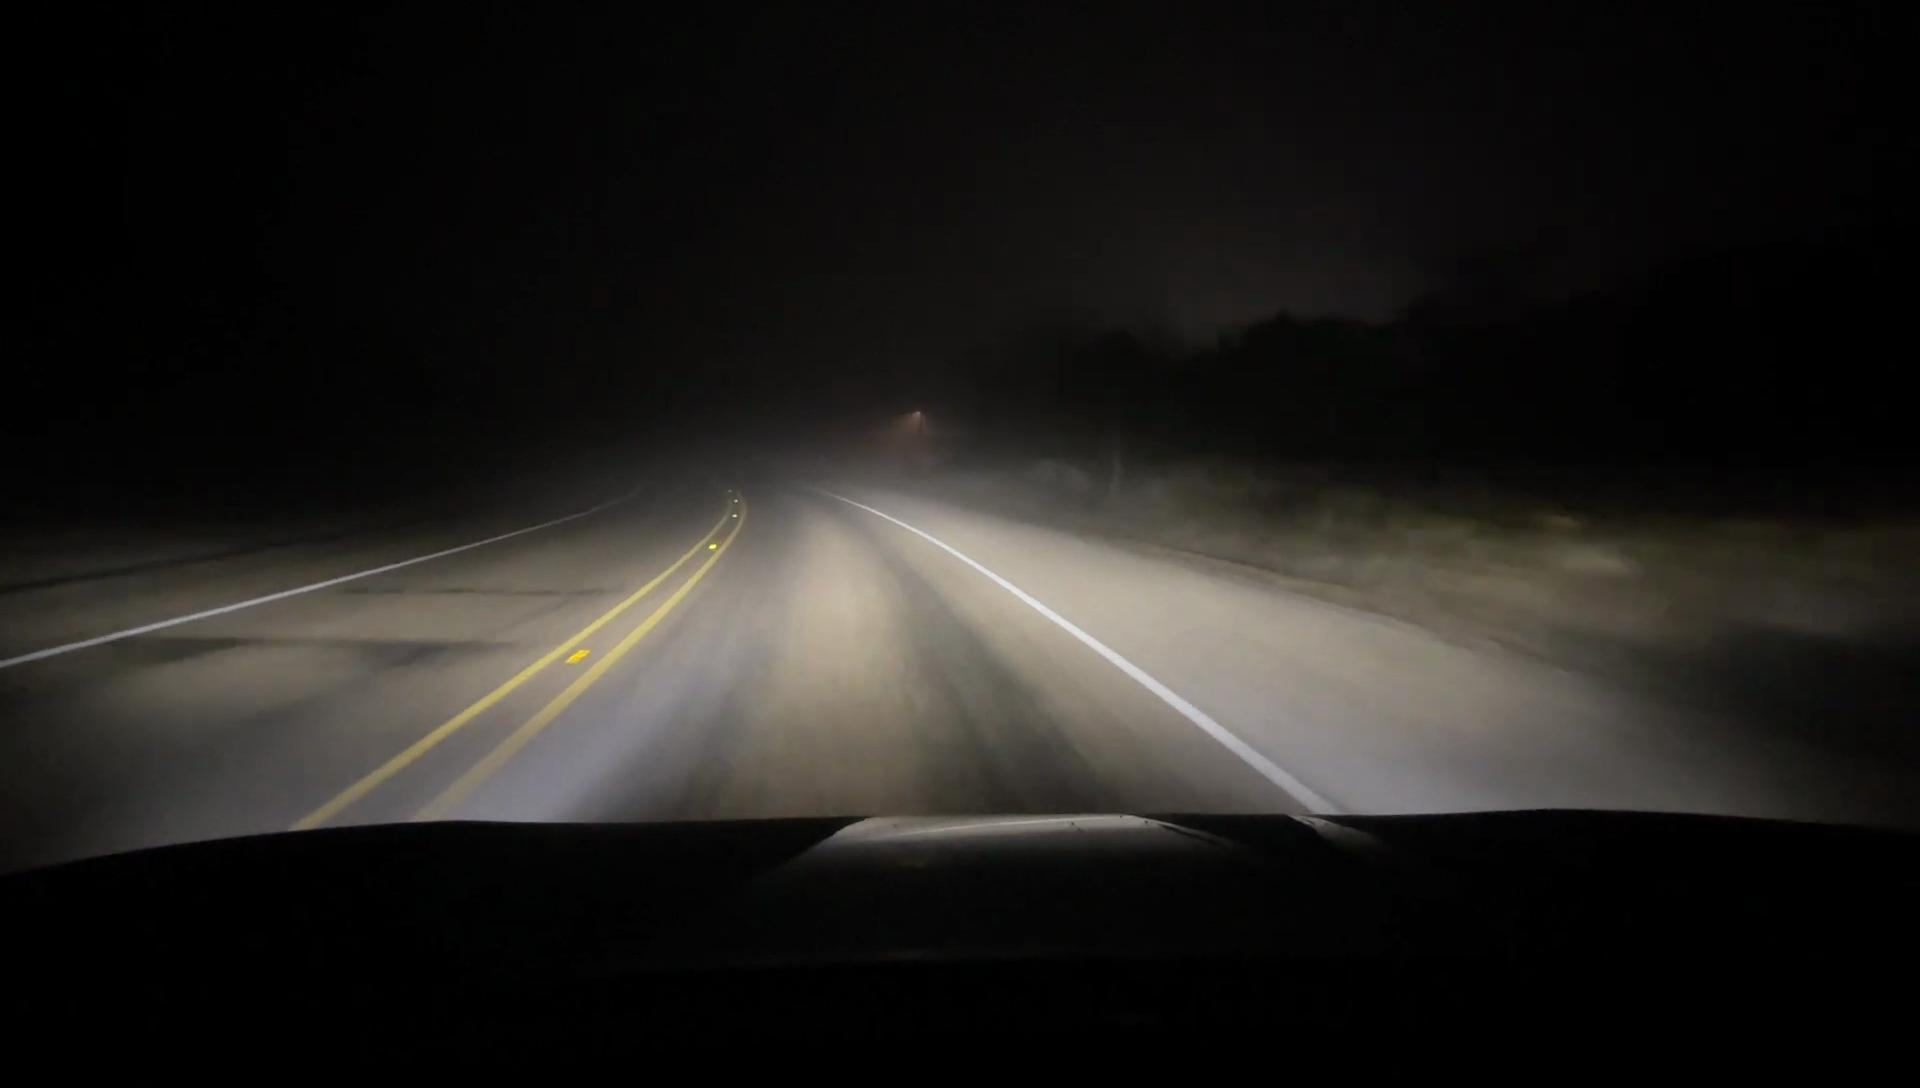road-lanes: (459, 495, 1323, 815)
